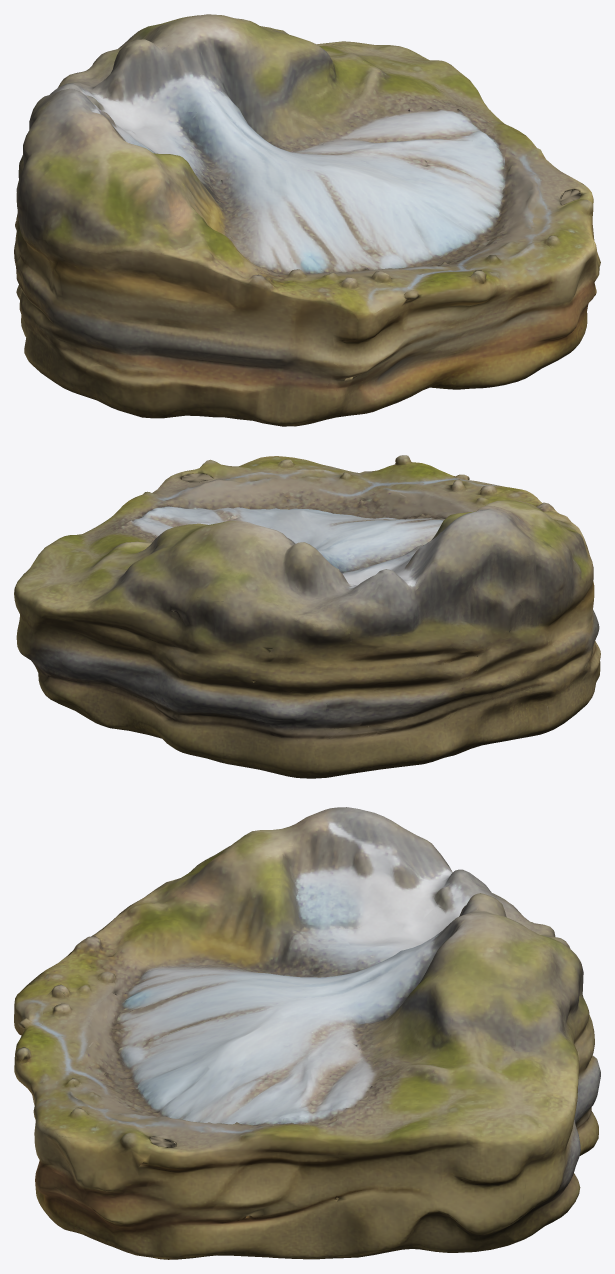
3 renders of one model, top to bottom at view 1: azimuth 30°, elevation 25°; view 2: azimuth 150°, elevation 25°; view 3: azimuth 270°, elevation 25°, orthographic. The views are drawn at different scales.
Visible parts, largest first — view 1: geometry_0; view 2: geometry_0; view 3: geometry_0.
Part boxes in pixels (x1,y1,x2,y2): geometry_0: (14,14,600,426); geometry_0: (14,455,600,778); geometry_0: (14,807,600,1259).
Size of the model in its own units: 30 by 14.62 by 29.77.
Materials: 1 (1 with a texture image).
